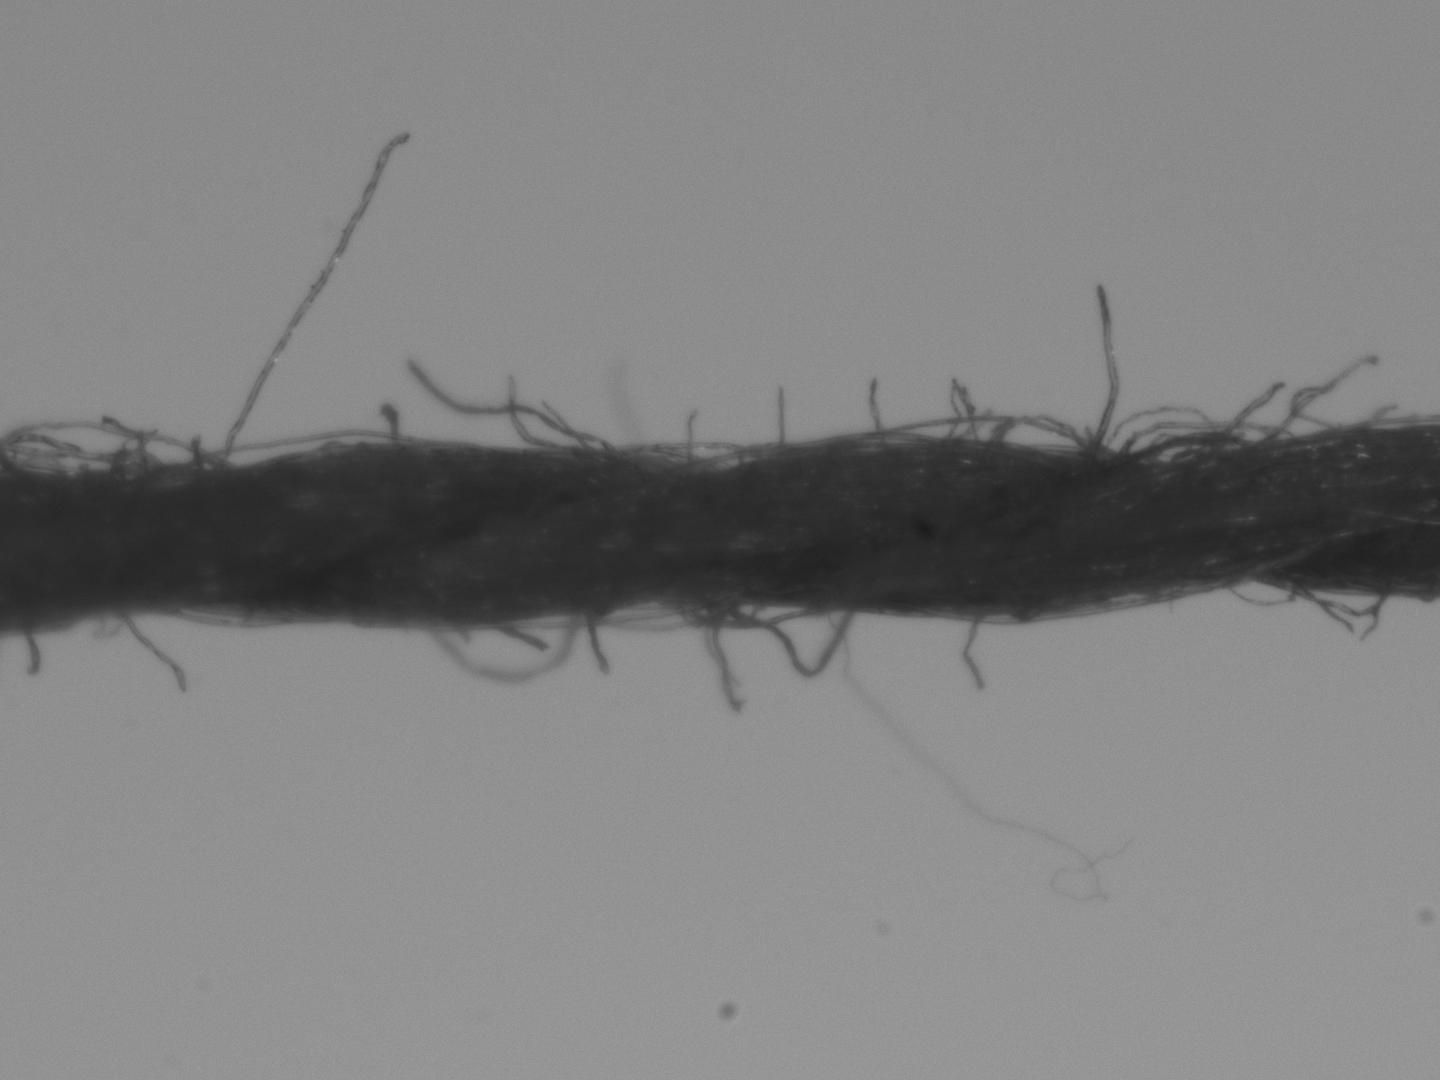loop_fiber: (726, 601, 854, 680), (425, 623, 571, 681), (194, 432, 397, 469), (6, 436, 151, 475), (889, 416, 1077, 445), (628, 441, 776, 467), (1123, 433, 1242, 464), (592, 601, 688, 632), (1294, 583, 1386, 606)
protruding_fiber: (215, 135, 407, 463), (1075, 281, 1112, 454), (115, 608, 188, 691), (959, 615, 988, 689), (579, 617, 611, 675), (867, 380, 883, 449), (778, 393, 786, 448)
